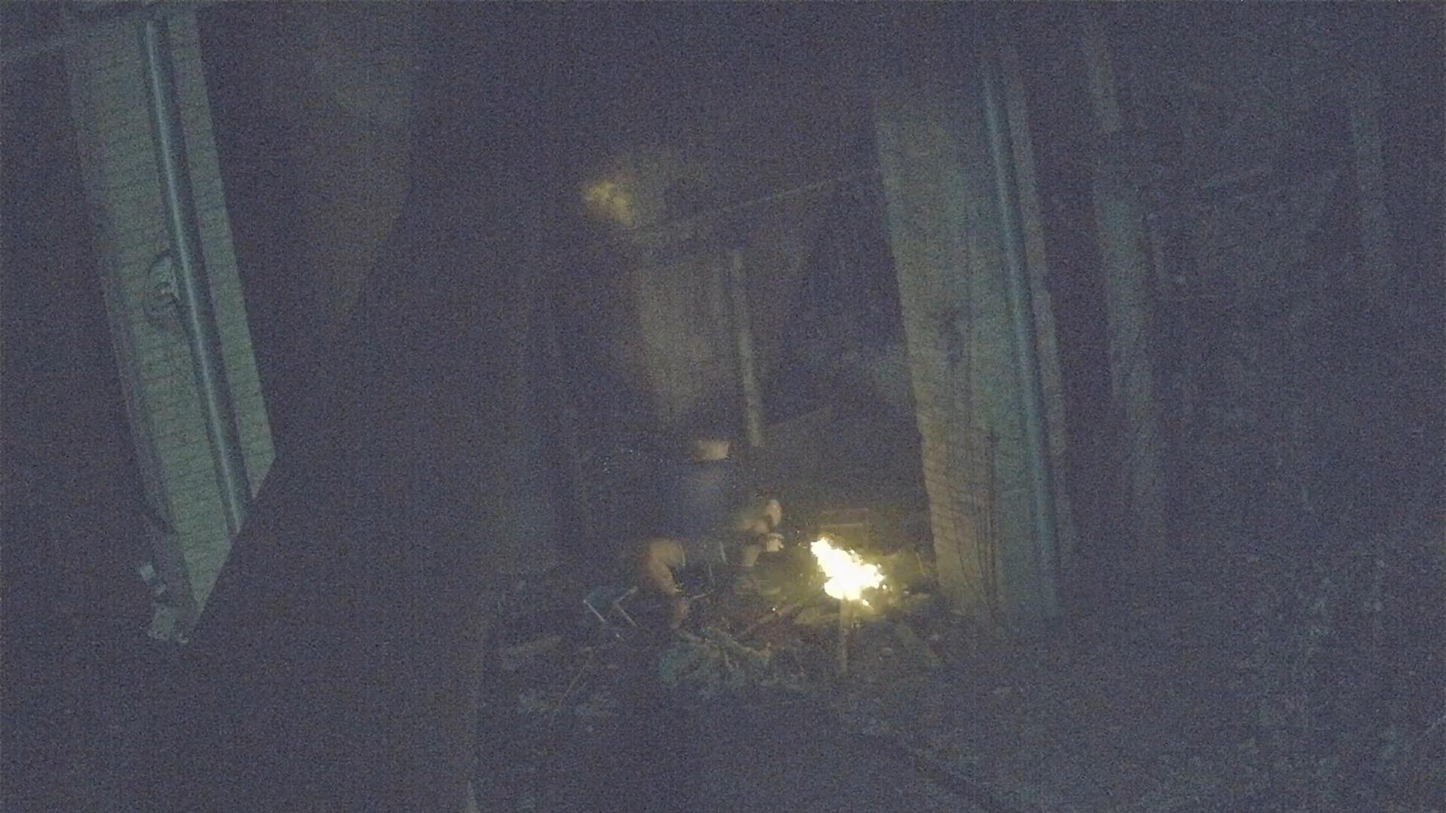fire: (810, 537, 884, 601)
